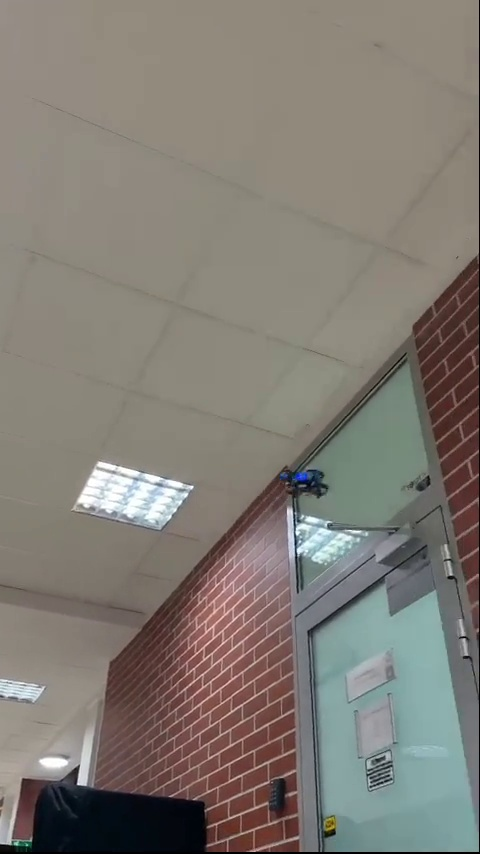drone: (273, 467, 324, 493)
